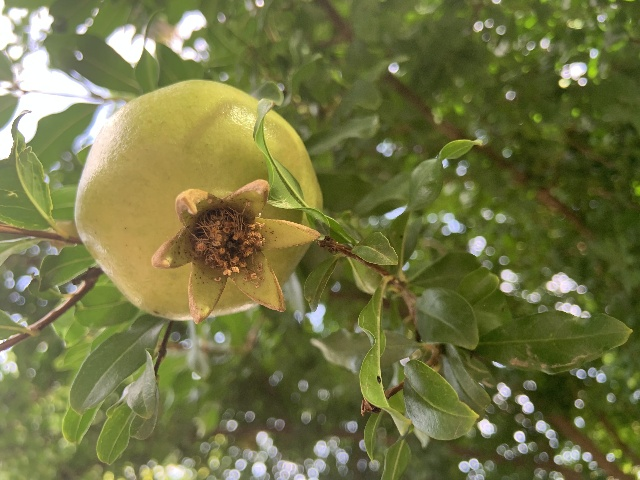mid-growth: (73, 78, 325, 323)
